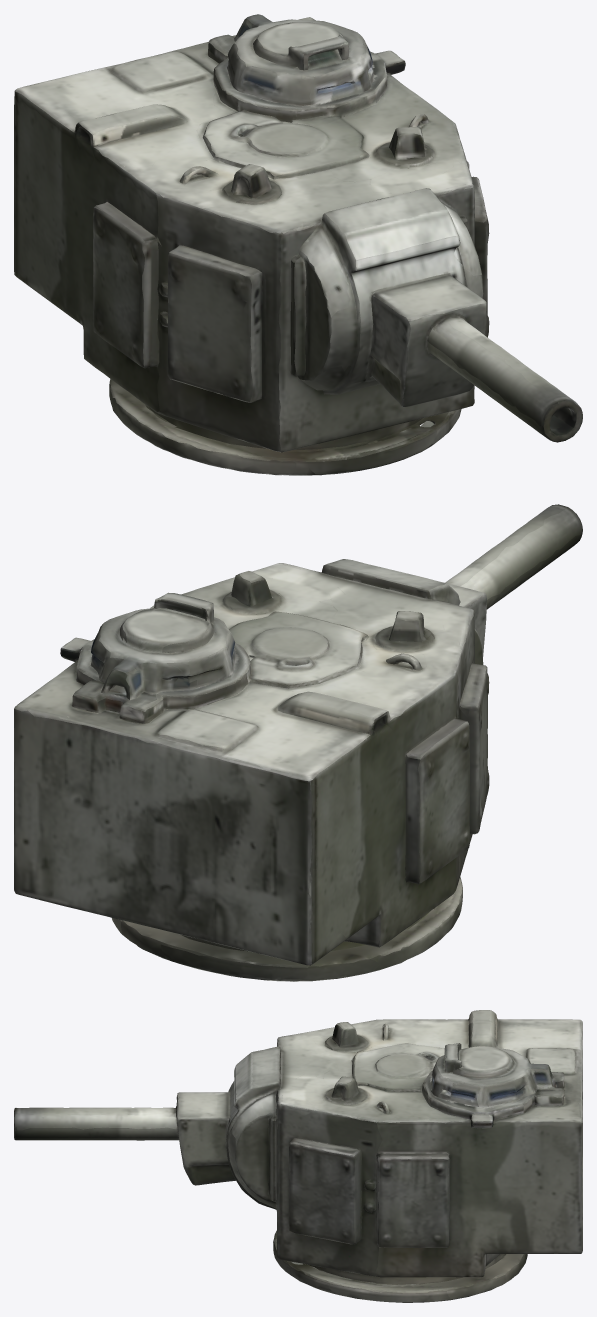
The model's file is heavy_turret.glb.
3 views of the same model, one above another, from view 1: azimuth 30°, elevation 25°; view 2: azimuth 150°, elevation 25°; view 3: azimuth 270°, elevation 25° (orthographic). The views are drawn at different scales.
Parts seen in each view (by area): view 1: geometry_0; view 2: geometry_0; view 3: geometry_0.
Boxes of the visible parts, <box> form: geometry_0: <box>14,14,582,475</box>; geometry_0: <box>14,504,582,981</box>; geometry_0: <box>14,1010,582,1302</box>.
Bounding box in the file's own units: 3.5 × 3.17 × 7.32.
Materials: 1 (1 with a texture image).
